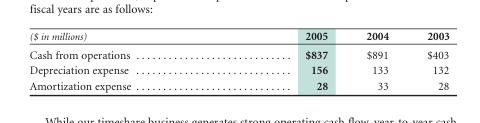table: (28, 29, 448, 91)
table column: (28, 29, 217, 91), (217, 29, 346, 91), (346, 29, 407, 91), (407, 29, 448, 91)
table column header: (28, 29, 448, 45)
table row: (28, 45, 448, 62), (28, 29, 448, 45), (28, 62, 448, 77), (28, 77, 448, 91)
